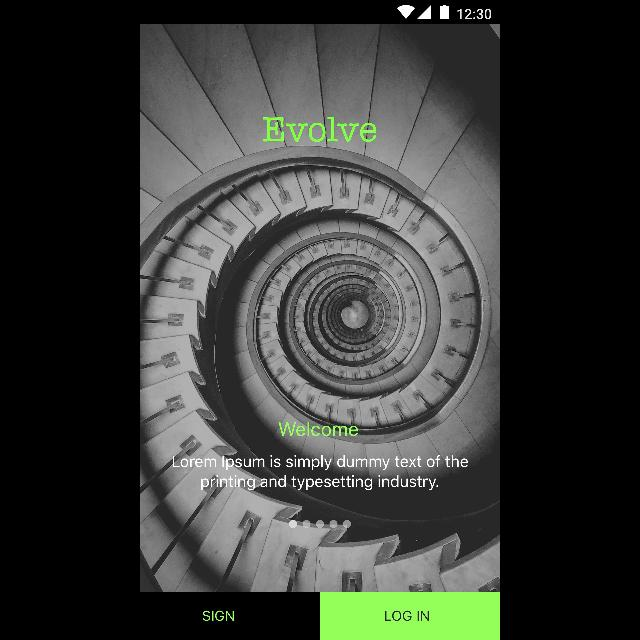backgroundimage: (140, 24, 500, 592)
pageindicator: (288, 520, 352, 528)
text: (172, 455, 468, 491), (262, 117, 378, 143), (278, 422, 358, 438)
textbutton: (320, 592, 500, 640), (140, 592, 320, 640)
uppertaskbar: (140, 0, 500, 24)
